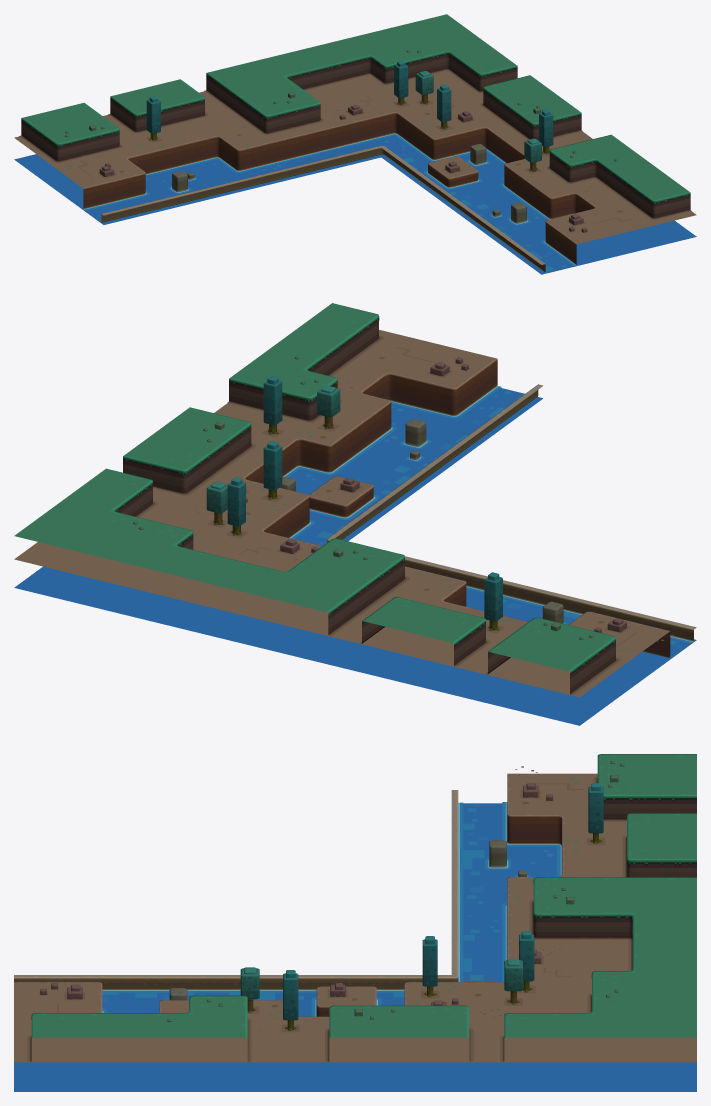
The model's file is C_water1_out_LD.fbx.
The picture shows the model from 3 angles, top to bottom: view 1: azimuth 30°, elevation 25°; view 2: azimuth 150°, elevation 25°; view 3: azimuth 270°, elevation 25°; orthographic projection. The views are drawn at different scales.
Visible parts, largest first — view 1: C_water1_out_LD; view 2: C_water1_out_LD; view 3: C_water1_out_LD.
Part boxes in pixels (bbox=[...]): C_water1_out_LD: bbox=[14, 14, 696, 274]; C_water1_out_LD: bbox=[14, 303, 696, 725]; C_water1_out_LD: bbox=[14, 754, 696, 1091].
Size of the model in its own units: 120 by 16.47 by 117.
